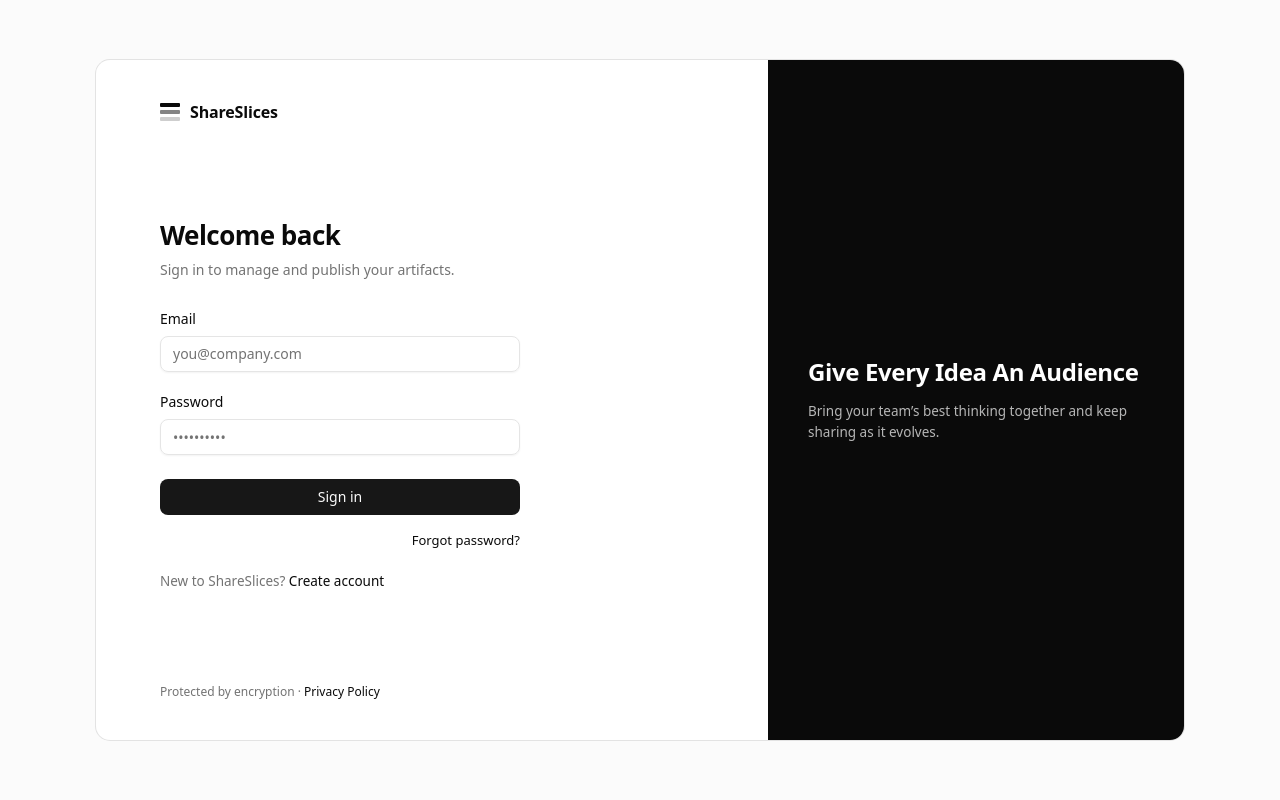
Scenario: account entry screens › returns to an allowed Gallery destination after sign in
The width and height of the screenshot is (1280, 800).
Type "ada@example.com" into the field labelled "Email". click: (340, 354)
box: [160, 336, 520, 372]
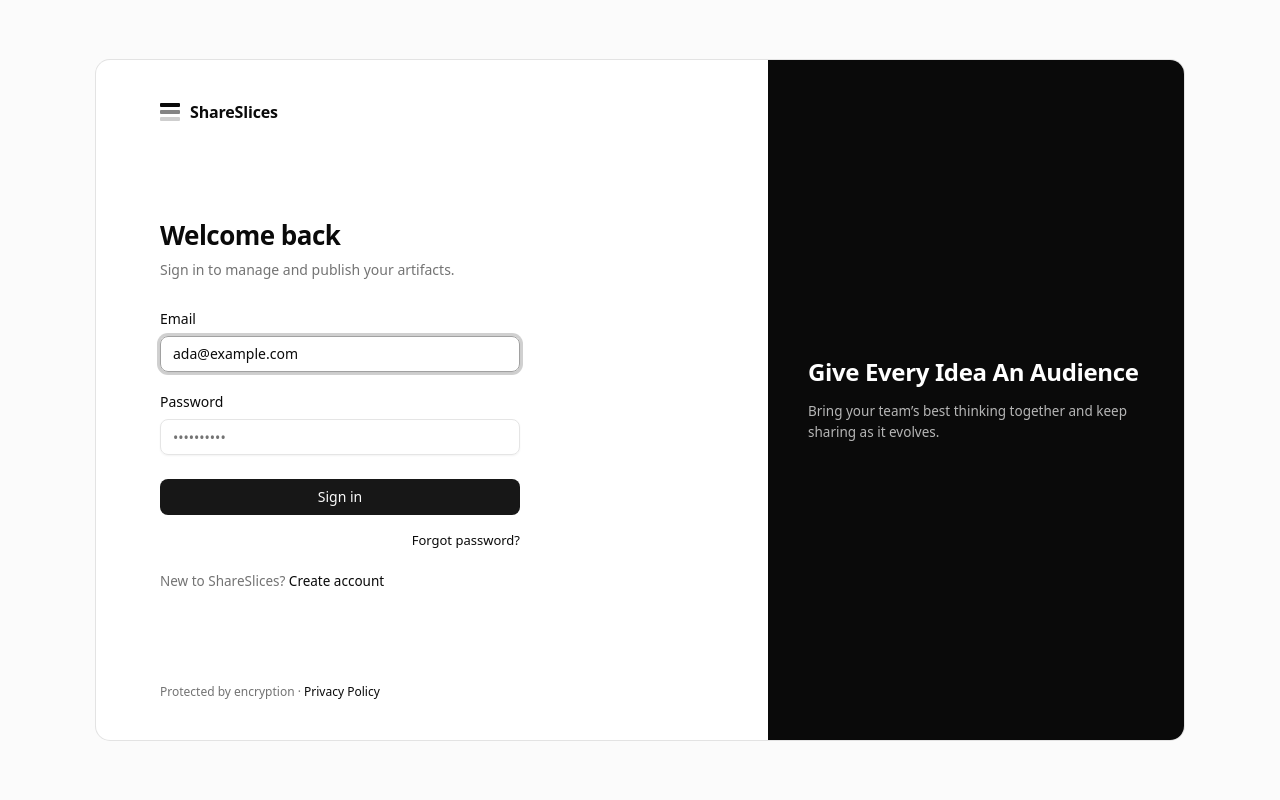
Type "password123" into the password field labelled "Password". click: (340, 437)
box: [160, 419, 520, 455]
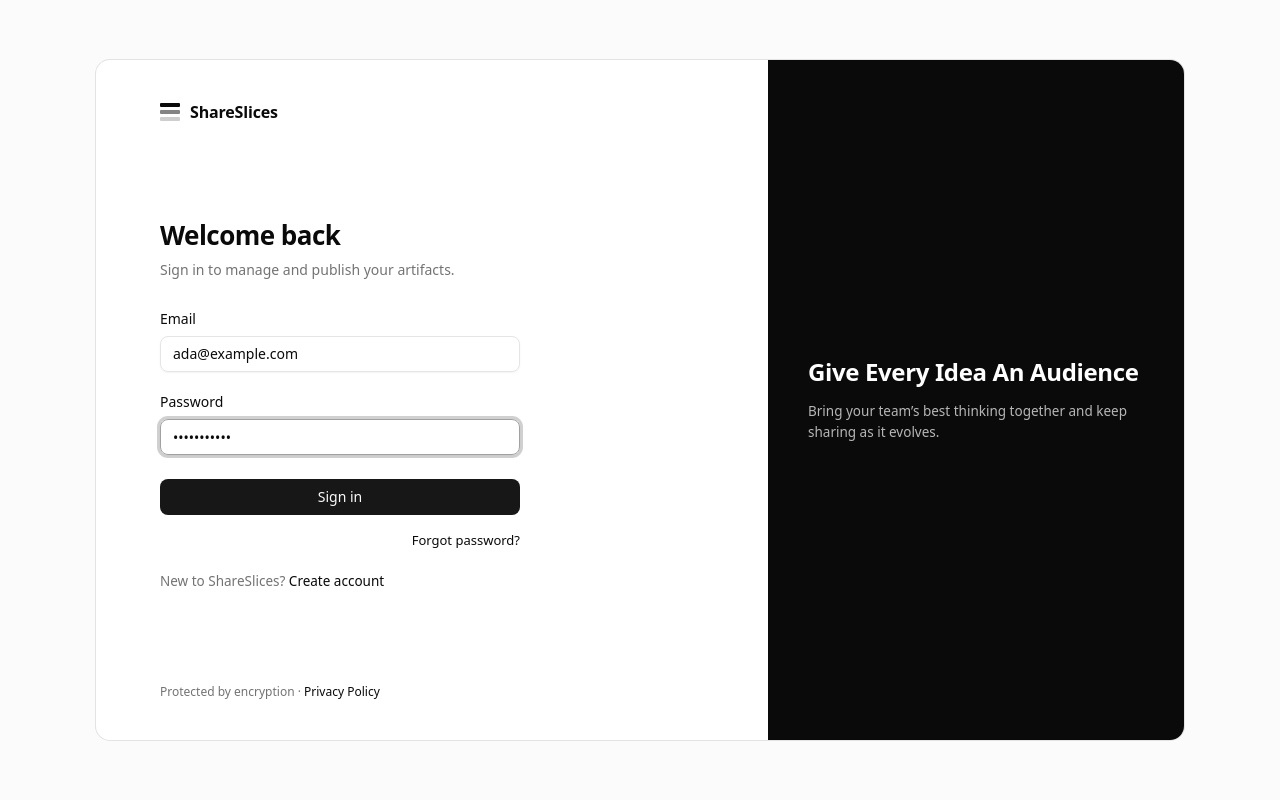
Click the button "Sign in". click: (340, 497)
box: [160, 479, 520, 515]
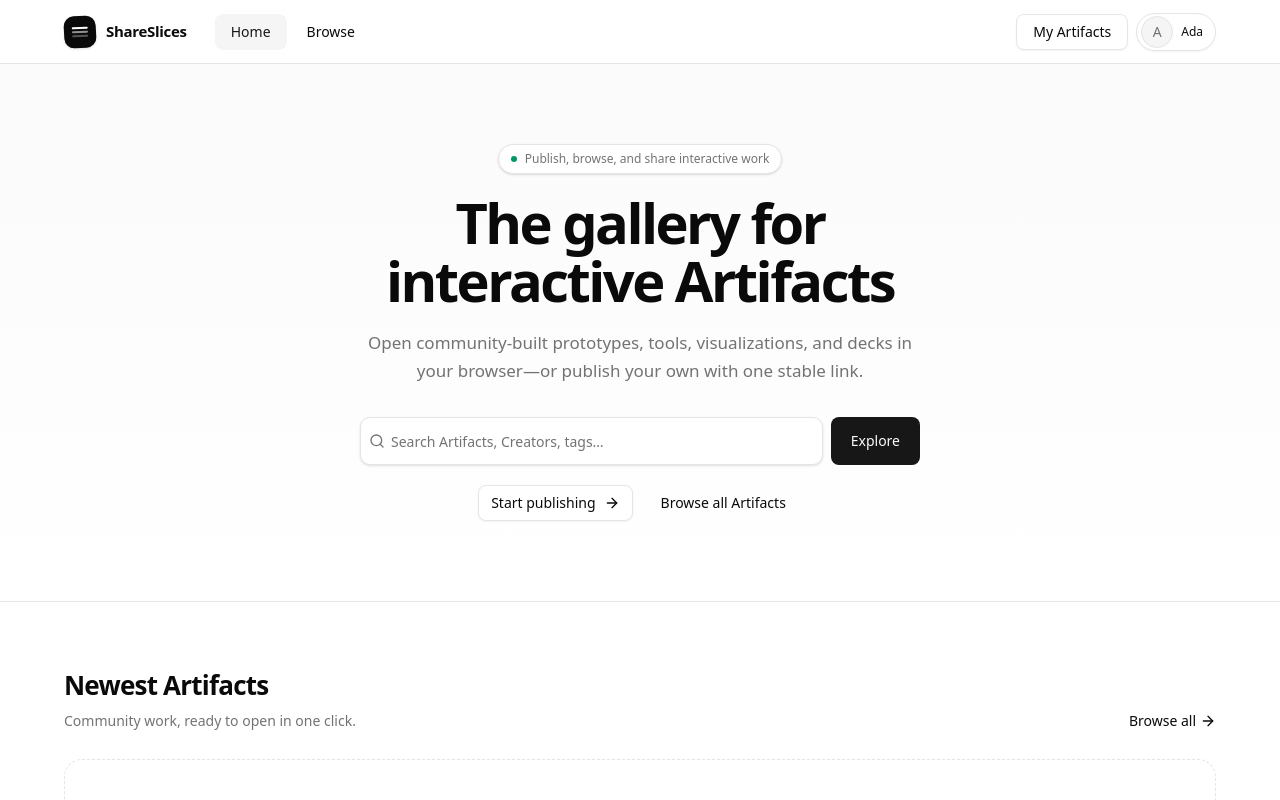
Result: the heading "The gallery for interactive Artifacts" is shown at [386, 184, 894, 318]
